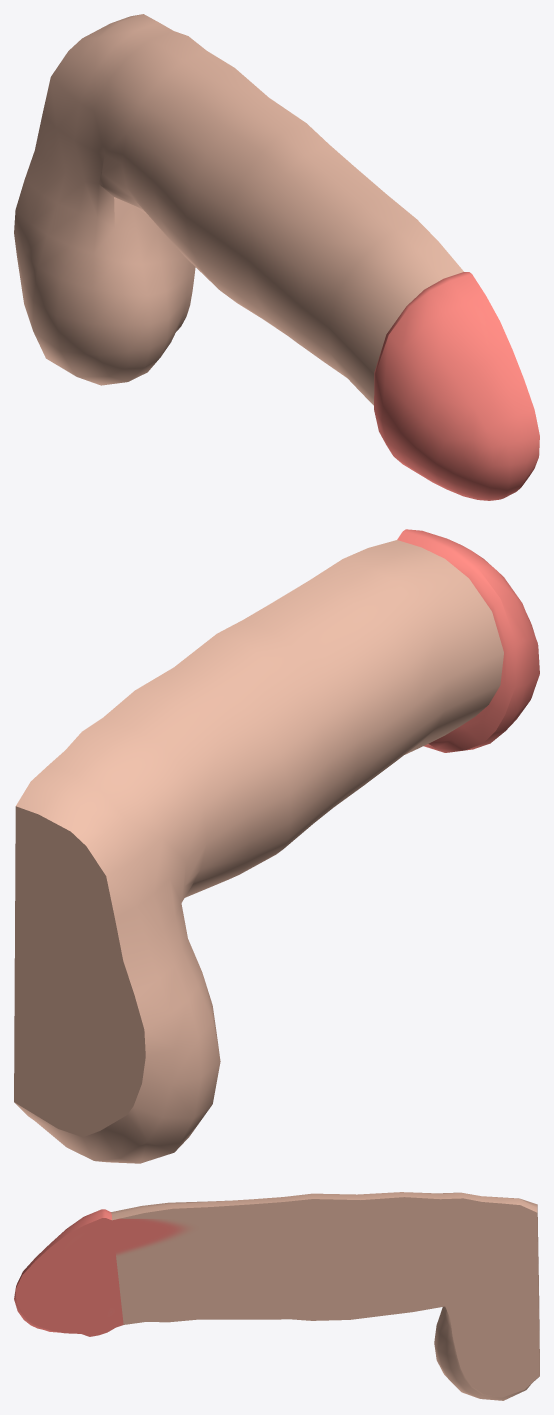
Rendered from InHalfBroken.fbx.
3 renders of one model, top to bottom at view 1: azimuth 30°, elevation 25°; view 2: azimuth 150°, elevation 25°; view 3: azimuth 270°, elevation 25°, orthographic. The views are drawn at different scales.
Visible parts, largest first — view 1: InHalf; view 2: InHalf; view 3: InHalf.
Part boxes in pixels (bbox=[...]): InHalf: bbox=[14, 14, 539, 500]; InHalf: bbox=[14, 529, 539, 1163]; InHalf: bbox=[14, 1192, 539, 1400].
Bounding box in the file's own units: 3.5 × 8.8 × 19.25.
